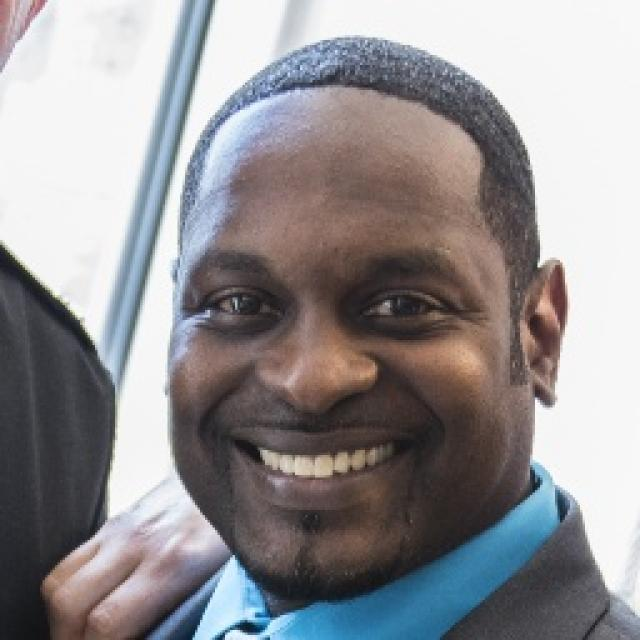earlobe: (532, 364, 560, 409)
eye: (363, 291, 437, 320), (210, 291, 278, 320)
nose: (252, 380, 382, 460)
wholeear: (523, 257, 573, 409)
